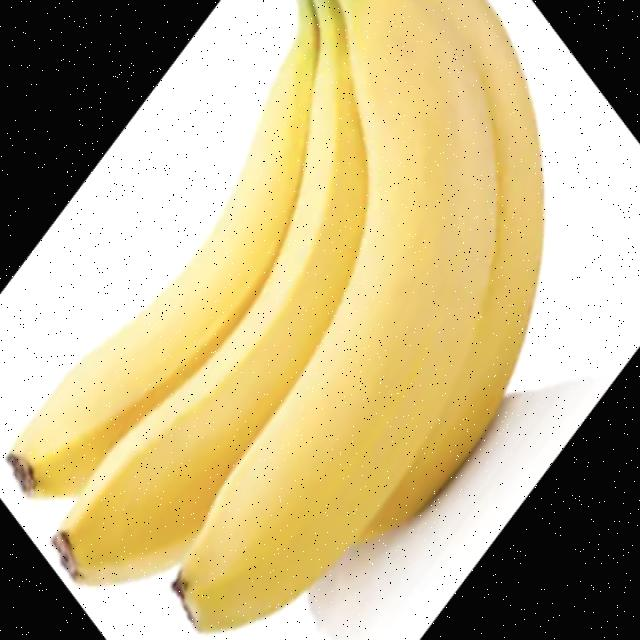god quality banana: (7, 2, 545, 632)
